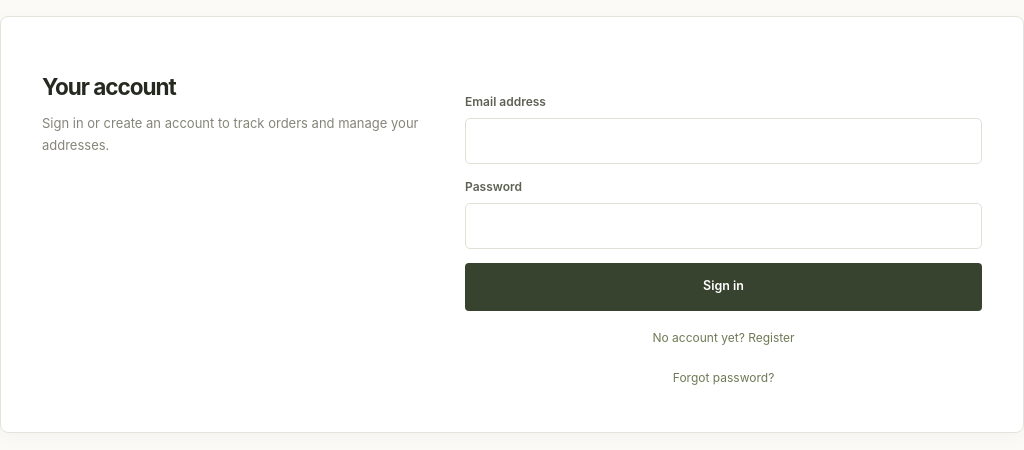
Test: AuthPanel › allows legacy passwords shorter than the registration minimum when signing in
Type "test@example.com" into the field labelled "Email address" at coordinates (724, 141), box [465,118,982,164]
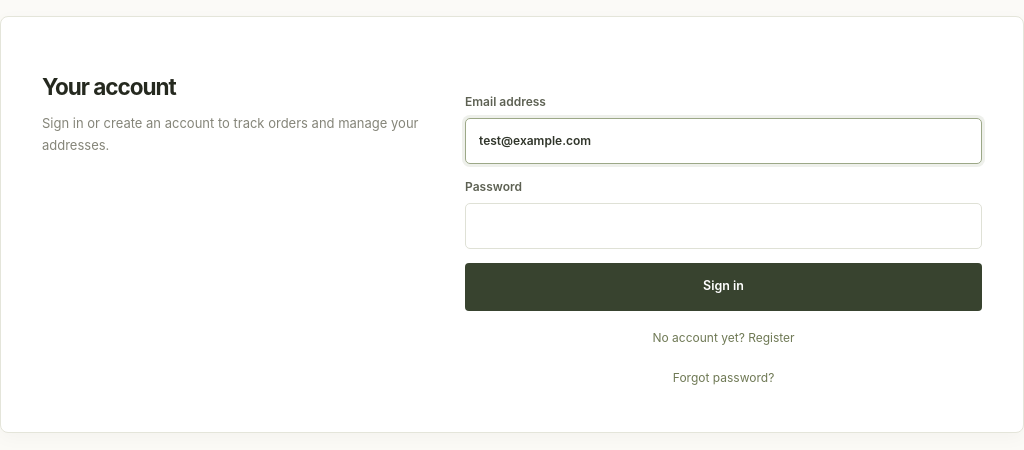
Type "legacy123" into the password field labelled "Password" at coordinates (724, 226), box [465,203,982,249]
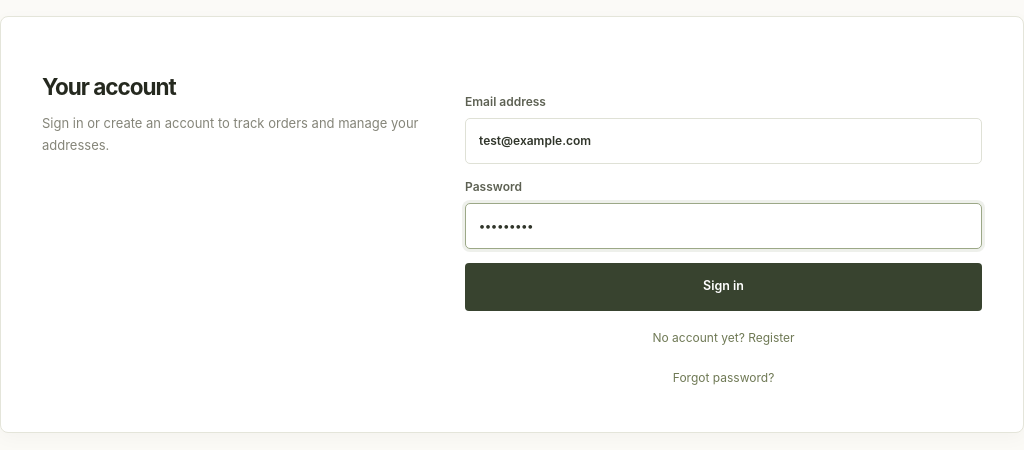
Click the button "Sign in" at coordinates (724, 287), box [465,263,982,311]
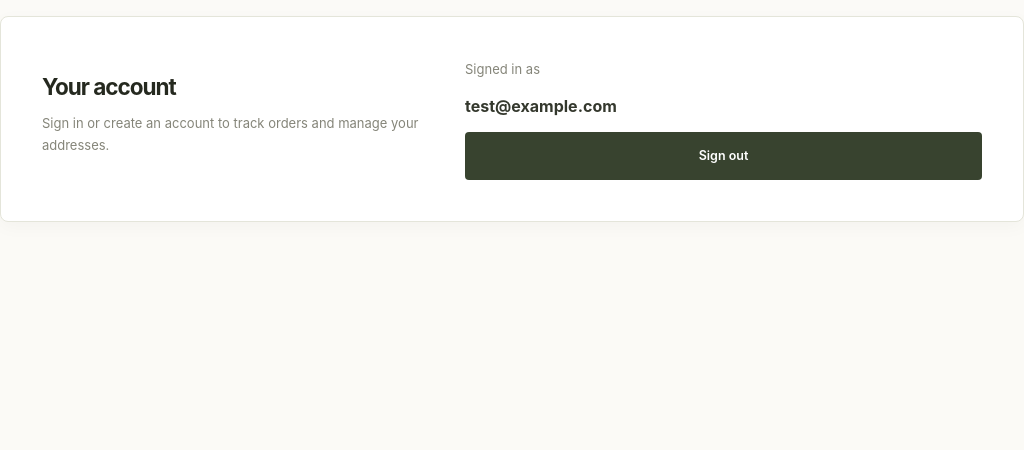
expect the text "test@example.com" is shown: met, box [465,96,617,116]
